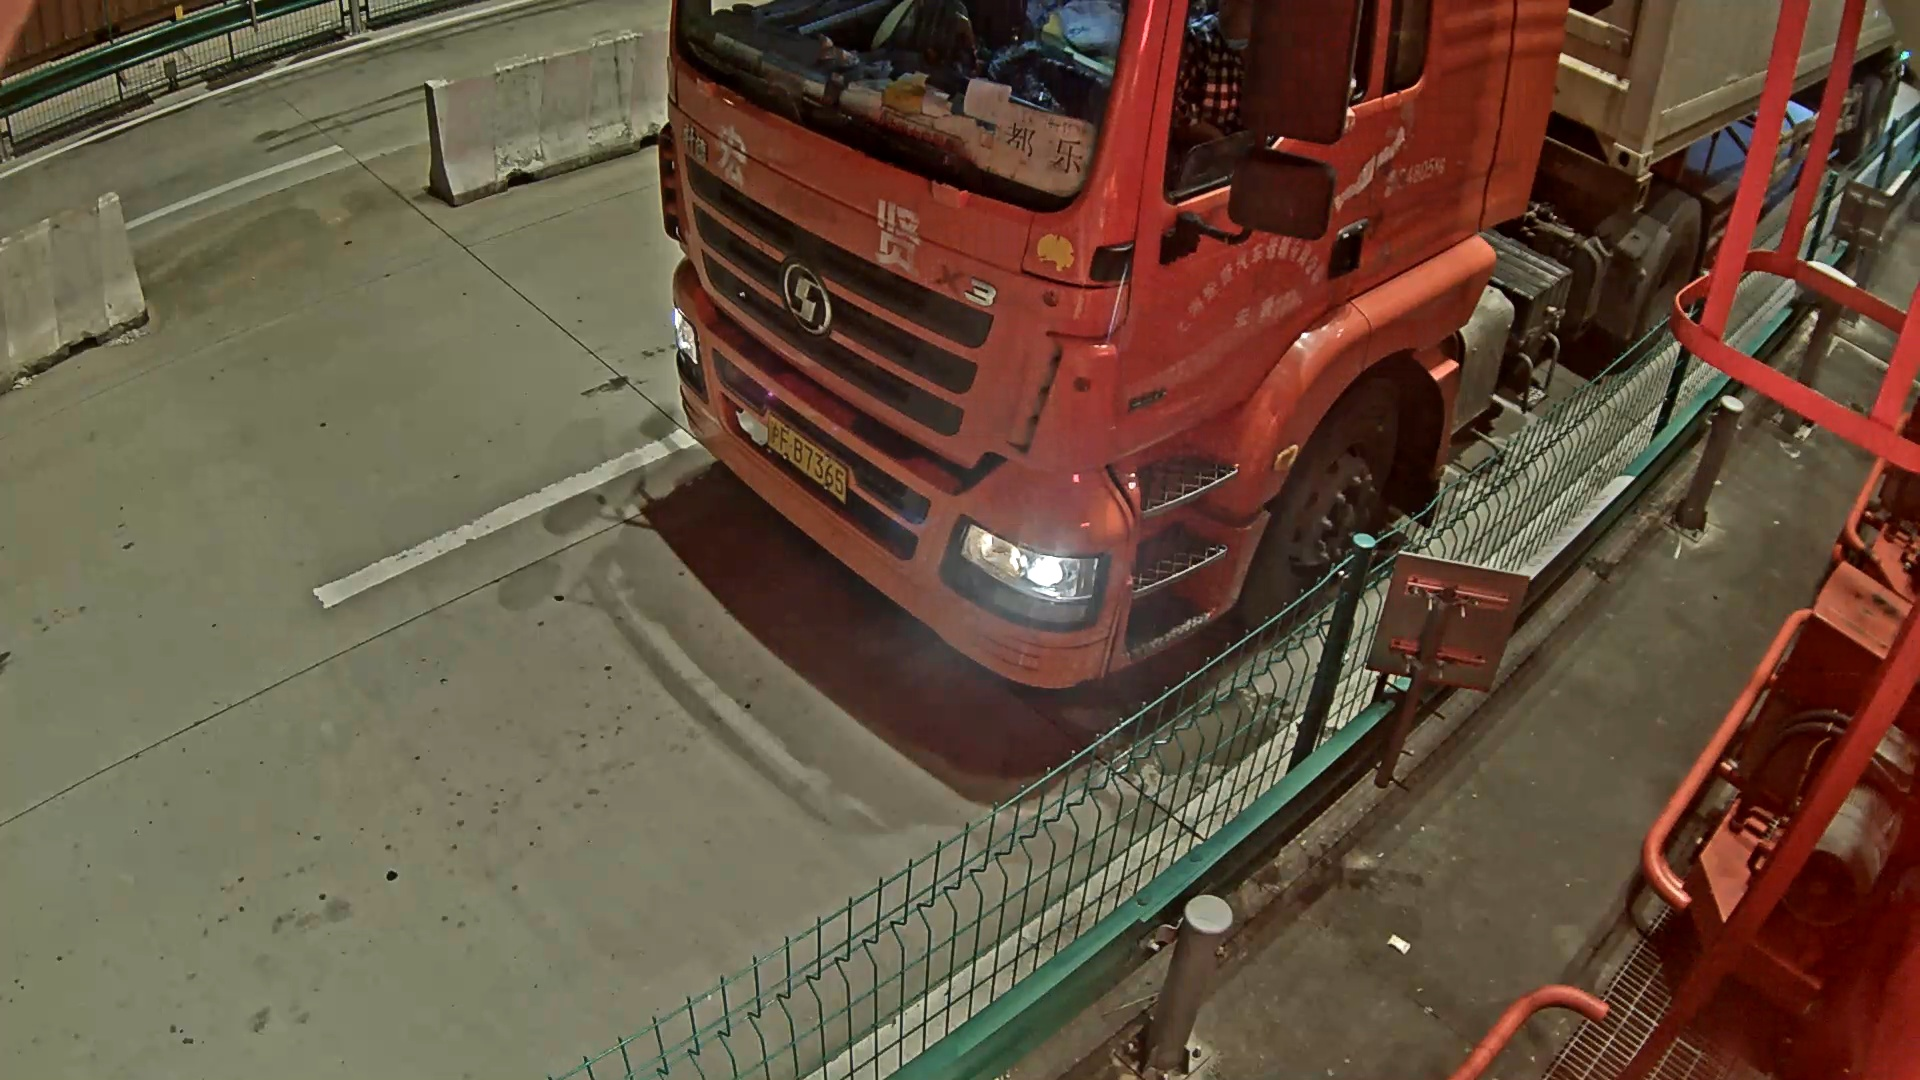head: (665, 1, 1565, 687)
plate: (761, 414, 848, 494)
